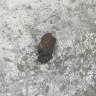Dog: (37, 33, 57, 64)
